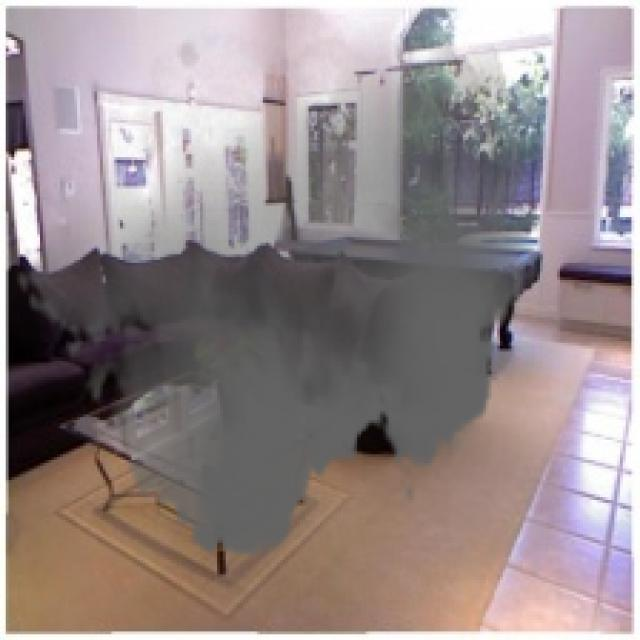smoke: (14, 14, 537, 577)
